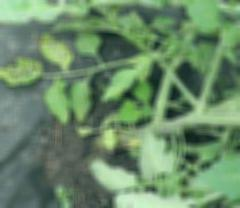Tomato Septoria leaf spot: (38, 30, 74, 75), (0, 59, 44, 89)
